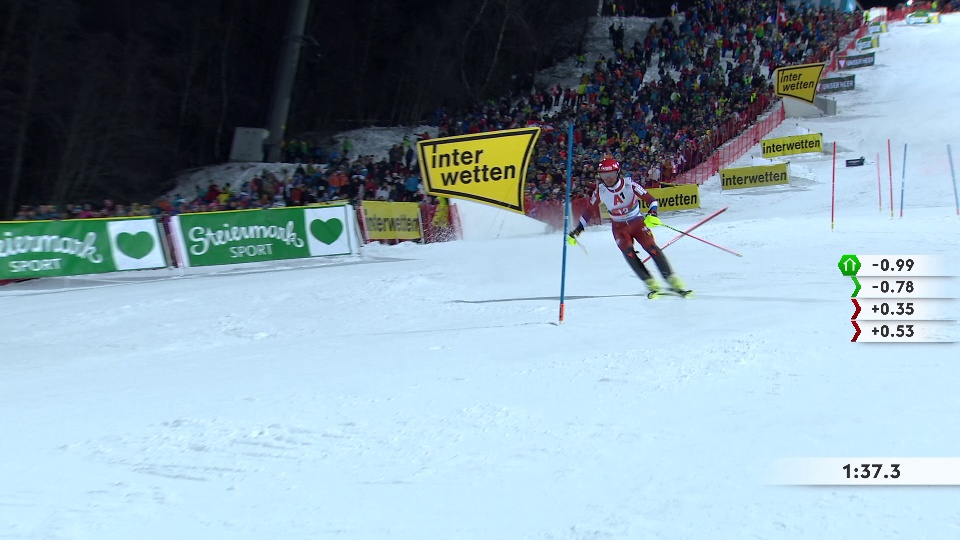a1: (613, 191, 629, 209)
interwetten: (423, 138, 533, 204), (360, 206, 425, 242), (774, 68, 823, 101), (724, 167, 789, 191), (765, 136, 824, 159), (649, 187, 701, 213)
steiermark: (1, 219, 163, 280), (185, 209, 353, 265)
